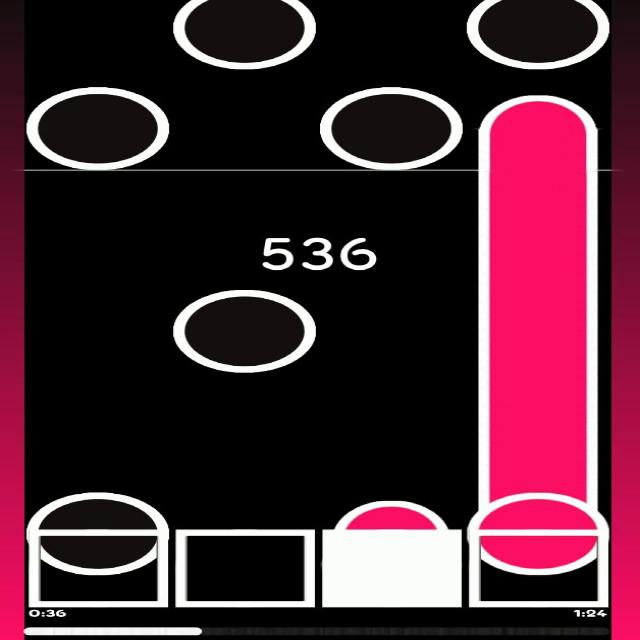end_hold: (478, 88, 602, 130), (333, 496, 447, 530)
note: (26, 492, 170, 576), (173, 290, 316, 374), (319, 87, 463, 170), (28, 88, 169, 170), (173, 0, 317, 69), (467, 0, 608, 70)
start_hold: (470, 481, 607, 574)
